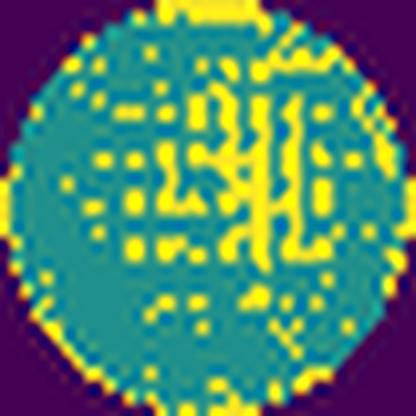Random: (54, 0, 415, 328)
